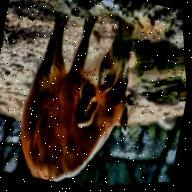boar: (9, 0, 162, 191)
